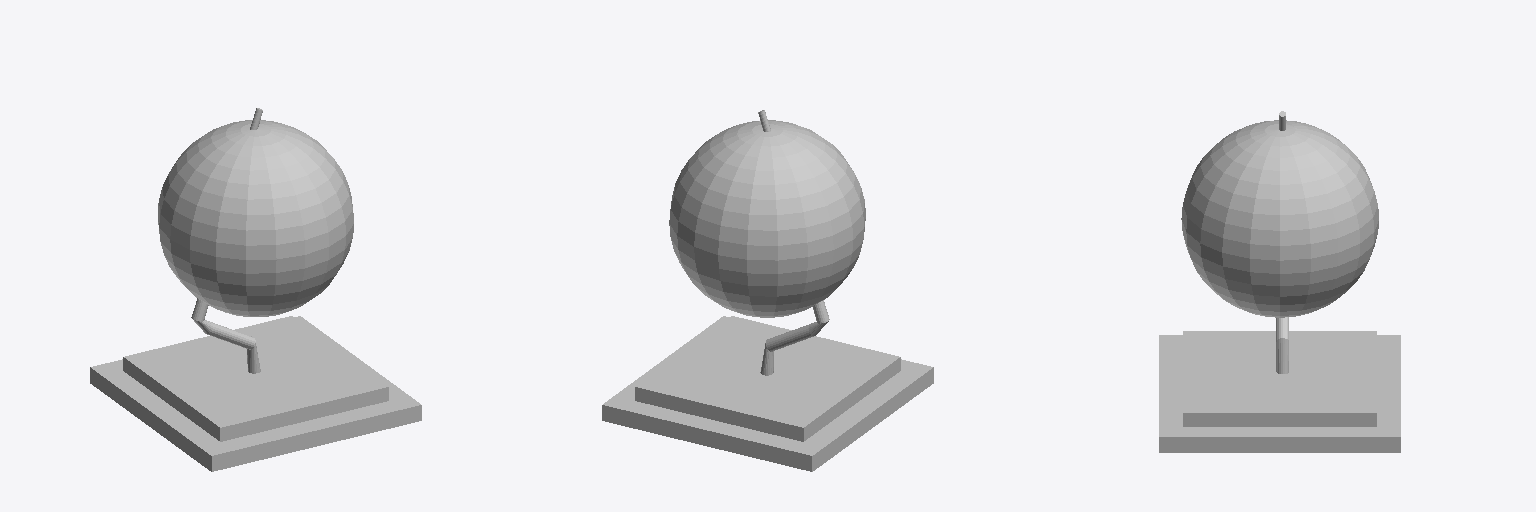
The model's file is globe.obj.
3 renders of one model, left to right at view 1: azimuth 30°, elevation 25°; view 2: azimuth 150°, elevation 25°; view 3: azimuth 270°, elevation 25°, orthographic.
Parts seen in each view (by area): view 1: group1_pasted__pCylinder4; view 2: group1_pasted__pCylinder4; view 3: group1_pasted__pCylinder4.
Part boxes in pixels (left/top/right/bottom): group1_pasted__pCylinder4: left=90, top=108, right=421, bottom=471; group1_pasted__pCylinder4: left=602, top=110, right=933, bottom=471; group1_pasted__pCylinder4: left=1159, top=111, right=1400, bottom=452.
Bounding box in the file's own units: 1 × 1.33 × 1.